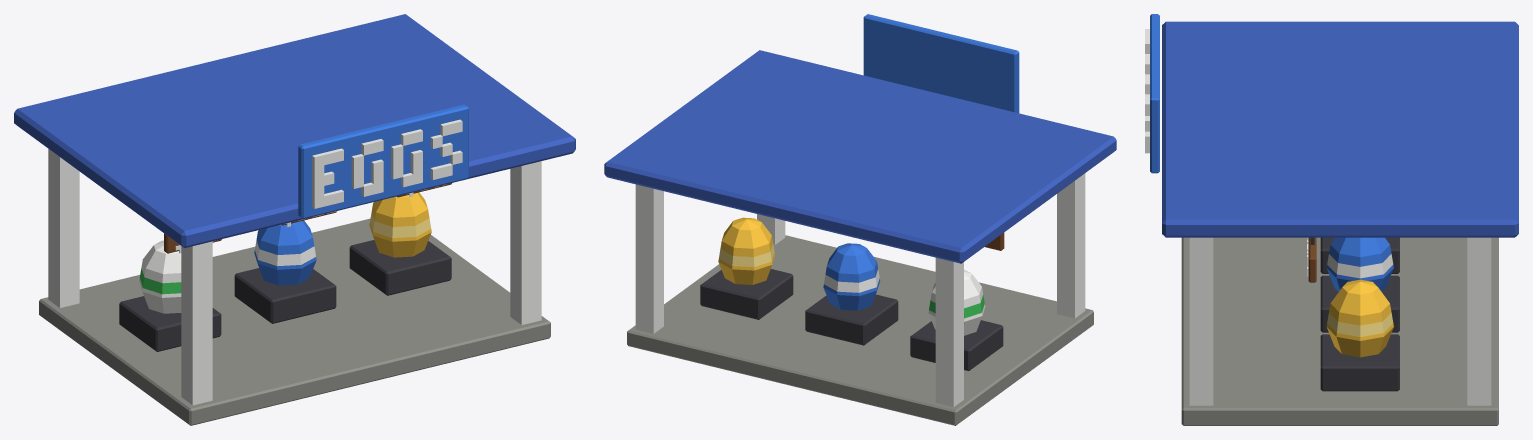
The model's file is EggHatchery.fbx.
The picture shows the model from 3 angles, left to right: view 1: azimuth 30°, elevation 25°; view 2: azimuth 150°, elevation 25°; view 3: azimuth 270°, elevation 25°; orthographic projection. The views are drawn at different scales.
Visible parts, largest first — view 1: EggHatchery, EggHatchery_Egg2, EggHatchery_Egg3, EggHatchery_Egg1; view 2: EggHatchery, EggHatchery_Egg2, EggHatchery_Egg3, EggHatchery_Egg1; view 3: EggHatchery, EggHatchery_Egg3, EggHatchery_Egg2, EggHatchery_Egg1.
Boxes of the visible parts, x1=… form: EggHatchery: x1=14, y1=14, x2=575, y2=425; EggHatchery_Egg2: x1=234, y1=220, x2=336, y2=323; EggHatchery_Egg3: x1=349, y1=192, x2=451, y2=295; EggHatchery_Egg1: x1=119, y1=240, x2=221, y2=351; EggHatchery: x1=604, y1=14, x2=1116, y2=425; EggHatchery_Egg2: x1=805, y1=243, x2=898, y2=345; EggHatchery_Egg3: x1=700, y1=217, x2=793, y2=319; EggHatchery_Egg1: x1=910, y1=269, x2=1003, y2=370; EggHatchery: x1=1145, y1=14, x2=1518, y2=425; EggHatchery_Egg3: x1=1320, y1=279, x2=1399, y2=391; EggHatchery_Egg2: x1=1320, y1=237, x2=1399, y2=332; EggHatchery_Egg1: x1=1320, y1=237, x2=1399, y2=273.
Bounding box in the file's own units: 24 × 15.5 × 18.85.
Materials: 1 (1 with a texture image).
